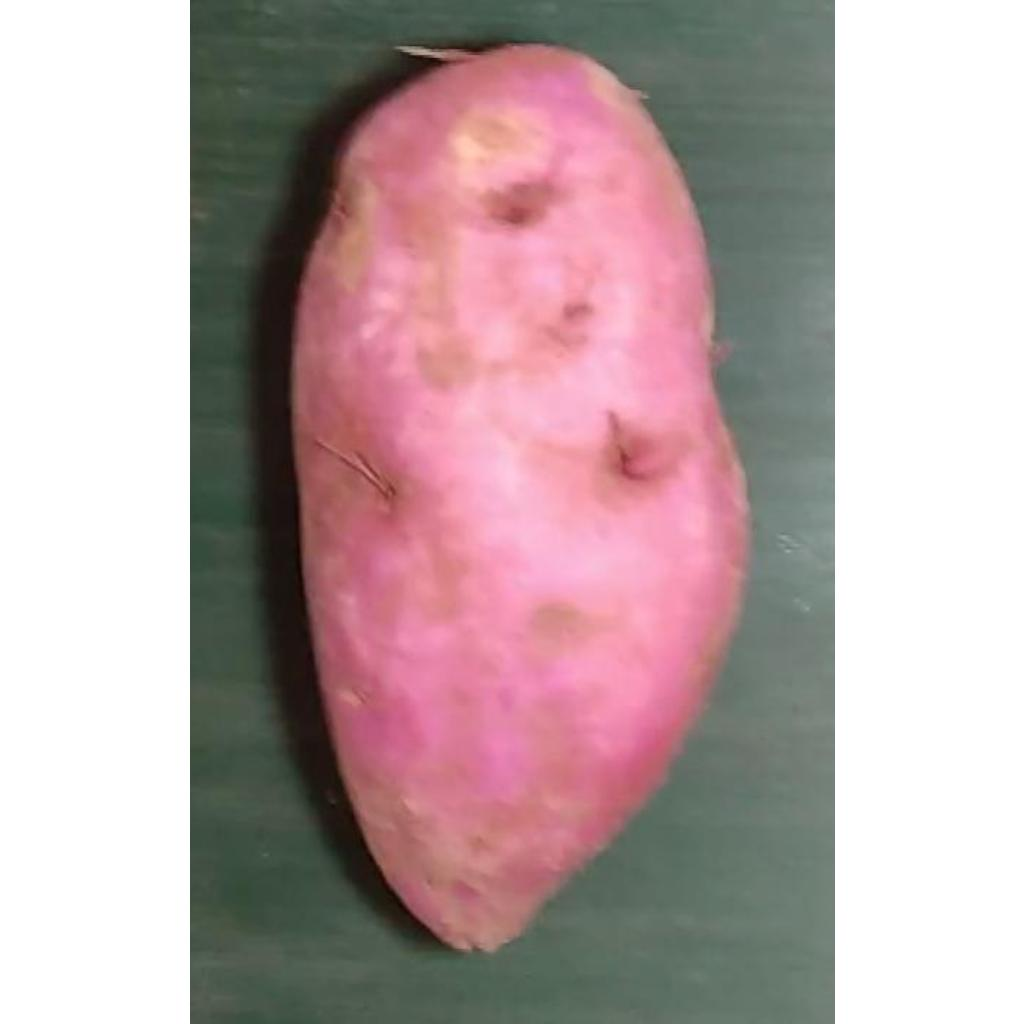Sweet Potato: (286, 46, 752, 957)
